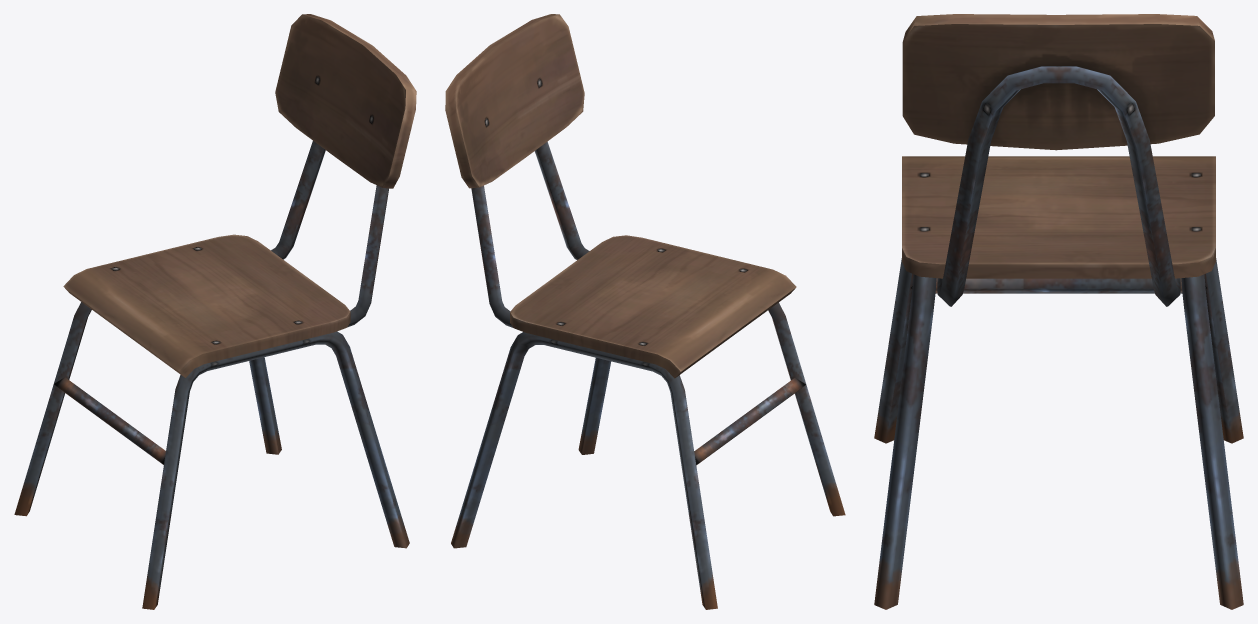
Rendered from chair11.fbx.
The picture shows the model from 3 angles, left to right: view 1: azimuth 30°, elevation 25°; view 2: azimuth 150°, elevation 25°; view 3: azimuth 270°, elevation 25°; orthographic projection. The views are drawn at different scales.
Parts seen in each view (by area): view 1: chair11; view 2: chair11; view 3: chair11.
Boxes of the visible parts, x1,y1,x2,y2 form: chair11: [14, 14, 416, 609]; chair11: [445, 14, 845, 609]; chair11: [874, 14, 1243, 609].
Bounding box in the file's own units: 59.74 × 85.16 × 47.09.
